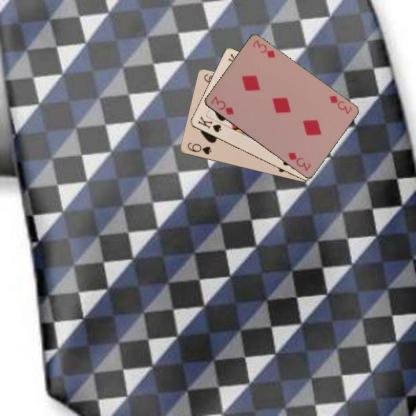3d: (326, 93, 353, 116), (208, 94, 235, 116)
6s: (184, 140, 213, 156)
Ks: (195, 113, 222, 134)
